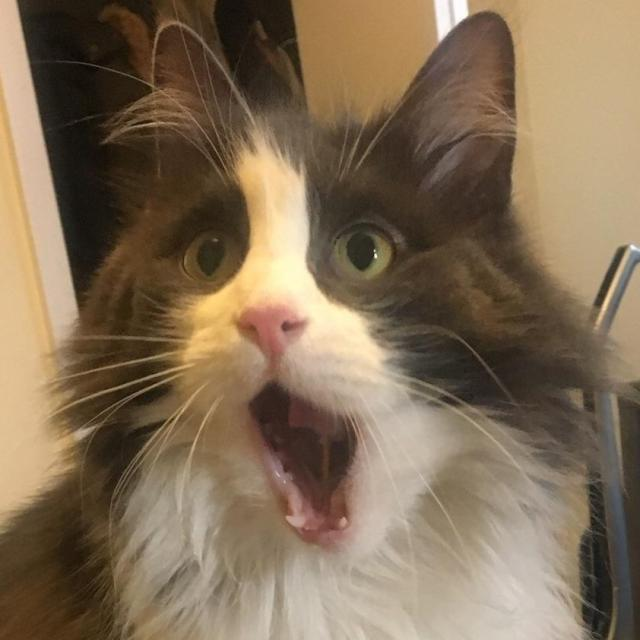Surprised: (140, 202, 448, 571)
